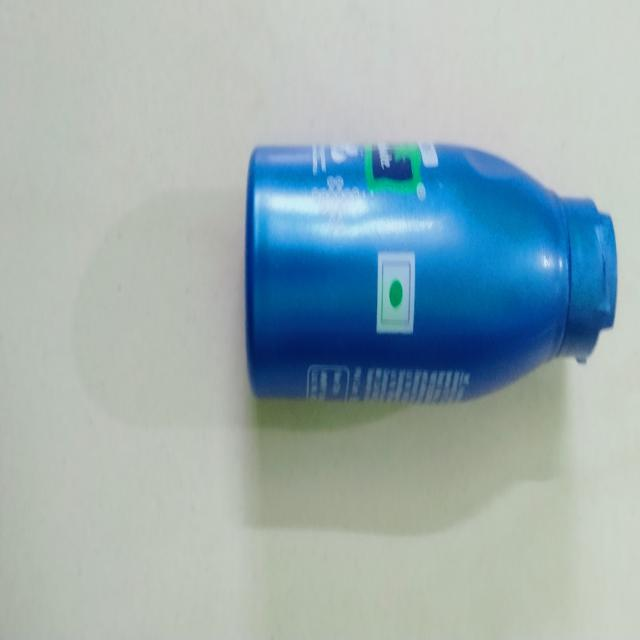oil: (244, 137, 622, 401)
